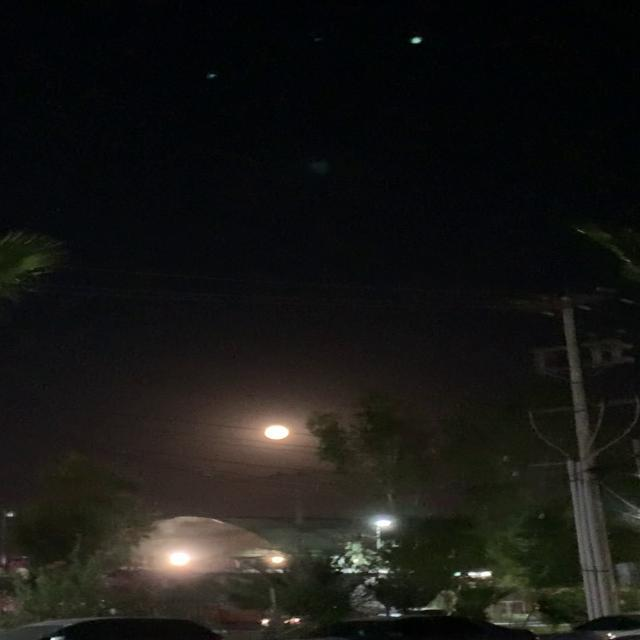moon: (256, 414, 309, 439)
